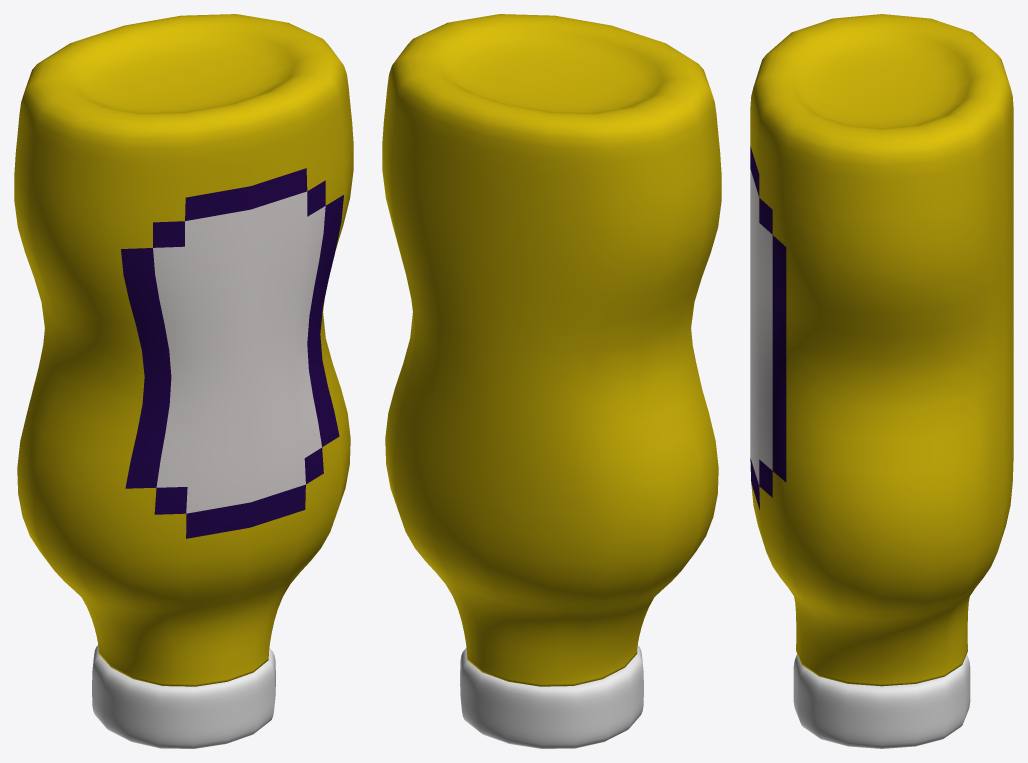
File: mustard.fbx
3 renders of one model, left to right at view 1: azimuth 30°, elevation 25°; view 2: azimuth 150°, elevation 25°; view 3: azimuth 270°, elevation 25°, orthographic.
Parts seen in each view (by area): view 1: mustard; view 2: mustard; view 3: mustard.
Part boxes in pixels (bbox=[...]): mustard: bbox=[14, 14, 353, 748]; mustard: bbox=[382, 14, 721, 748]; mustard: bbox=[750, 14, 1013, 748].
Size of the model in its own units: 117 by 236 by 88.
